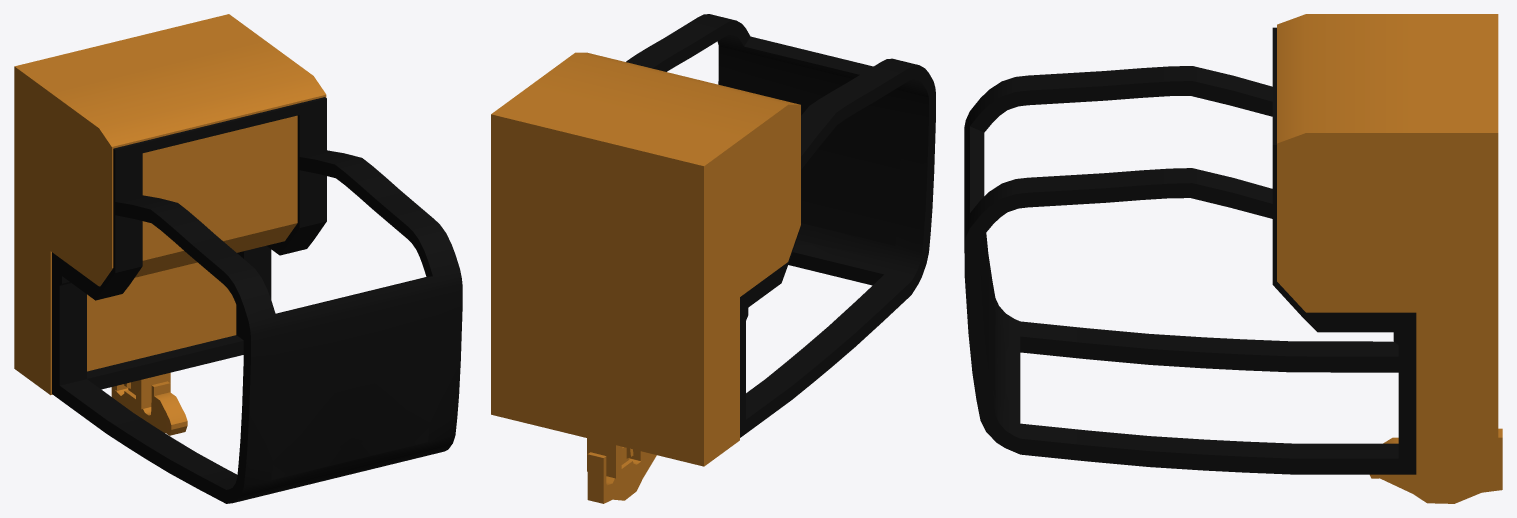
Rendered from CAT302_Chassis.obj.
3 views of the same model, side by side, from view 1: azimuth 30°, elevation 25°; view 2: azimuth 150°, elevation 25°; view 3: azimuth 270°, elevation 25° (orthographic). The views are drawn at different scales.
Visible parts, largest first — view 1: Chassis; view 2: Chassis; view 3: Chassis.
Boxes of the visible parts, left/top/right/bottom form: Chassis: left=14, top=14, right=462, bottom=503; Chassis: left=491, top=14, right=935, bottom=503; Chassis: left=964, top=14, right=1502, bottom=503.
Size of the model in its own units: 2.63 by 4.39 by 5.02.
